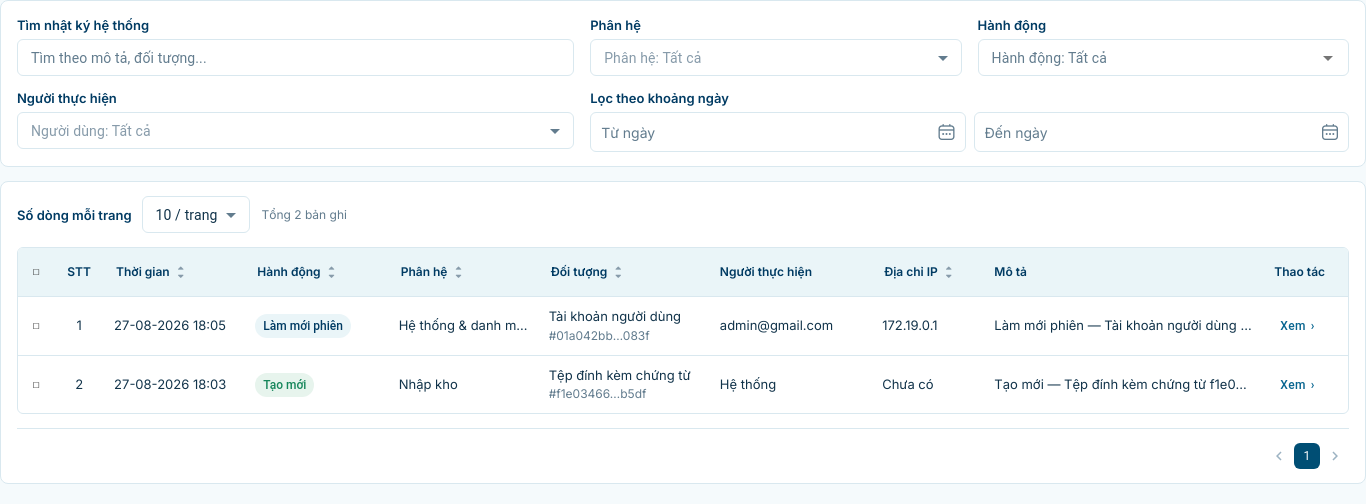
Test: AuditLogsPage (Nhật ký hệ thống) › chọn tất cả bật khối thao tác hàng loạt và bỏ chọn tắt đi
Expected: the text "Tài khoản người dùng" is shown, [549,307,700,327]
Click the checkbox named "Chọn tất cả nhật ký trong trang" at (36, 272), box [32,262,40,282]
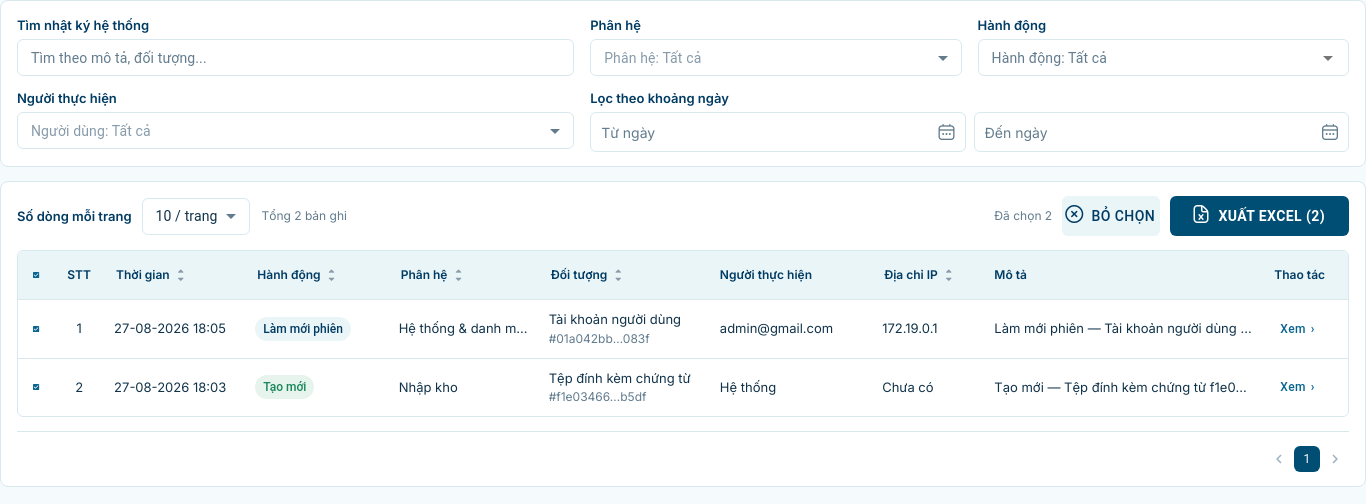
Expected: the text "Đã chọn 2" is shown, [994,207,1052,225]
Expected: the button "Xuất Excel (2)" is shown, [1170,196,1349,236]
Click the button "Bỏ chọn" at (1111, 216), box [1062,196,1160,236]
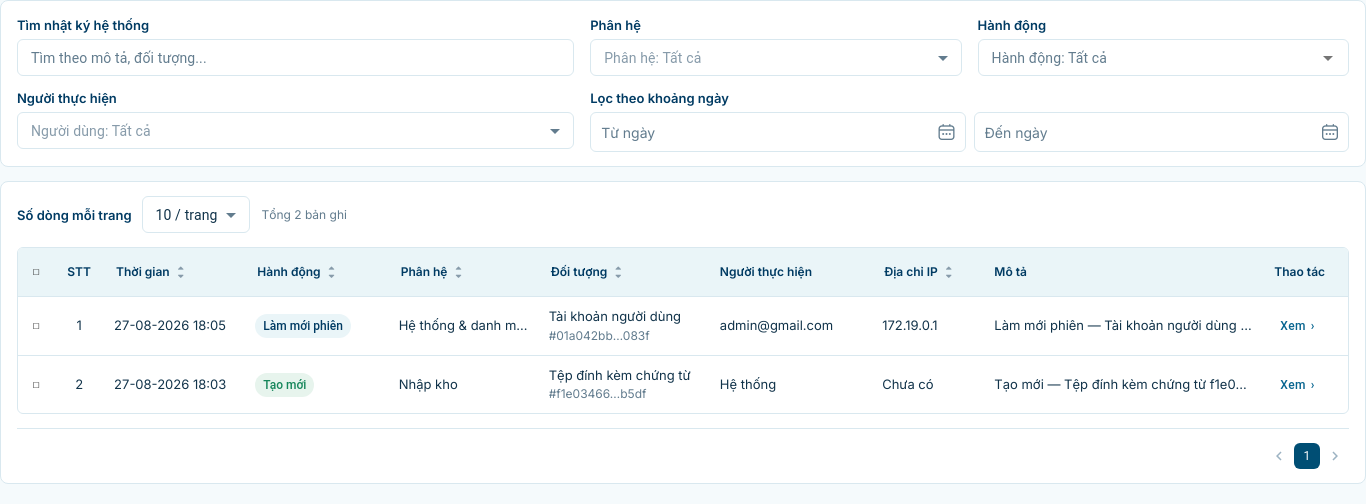
Expected: the text "Đã chọn 2" is gone
